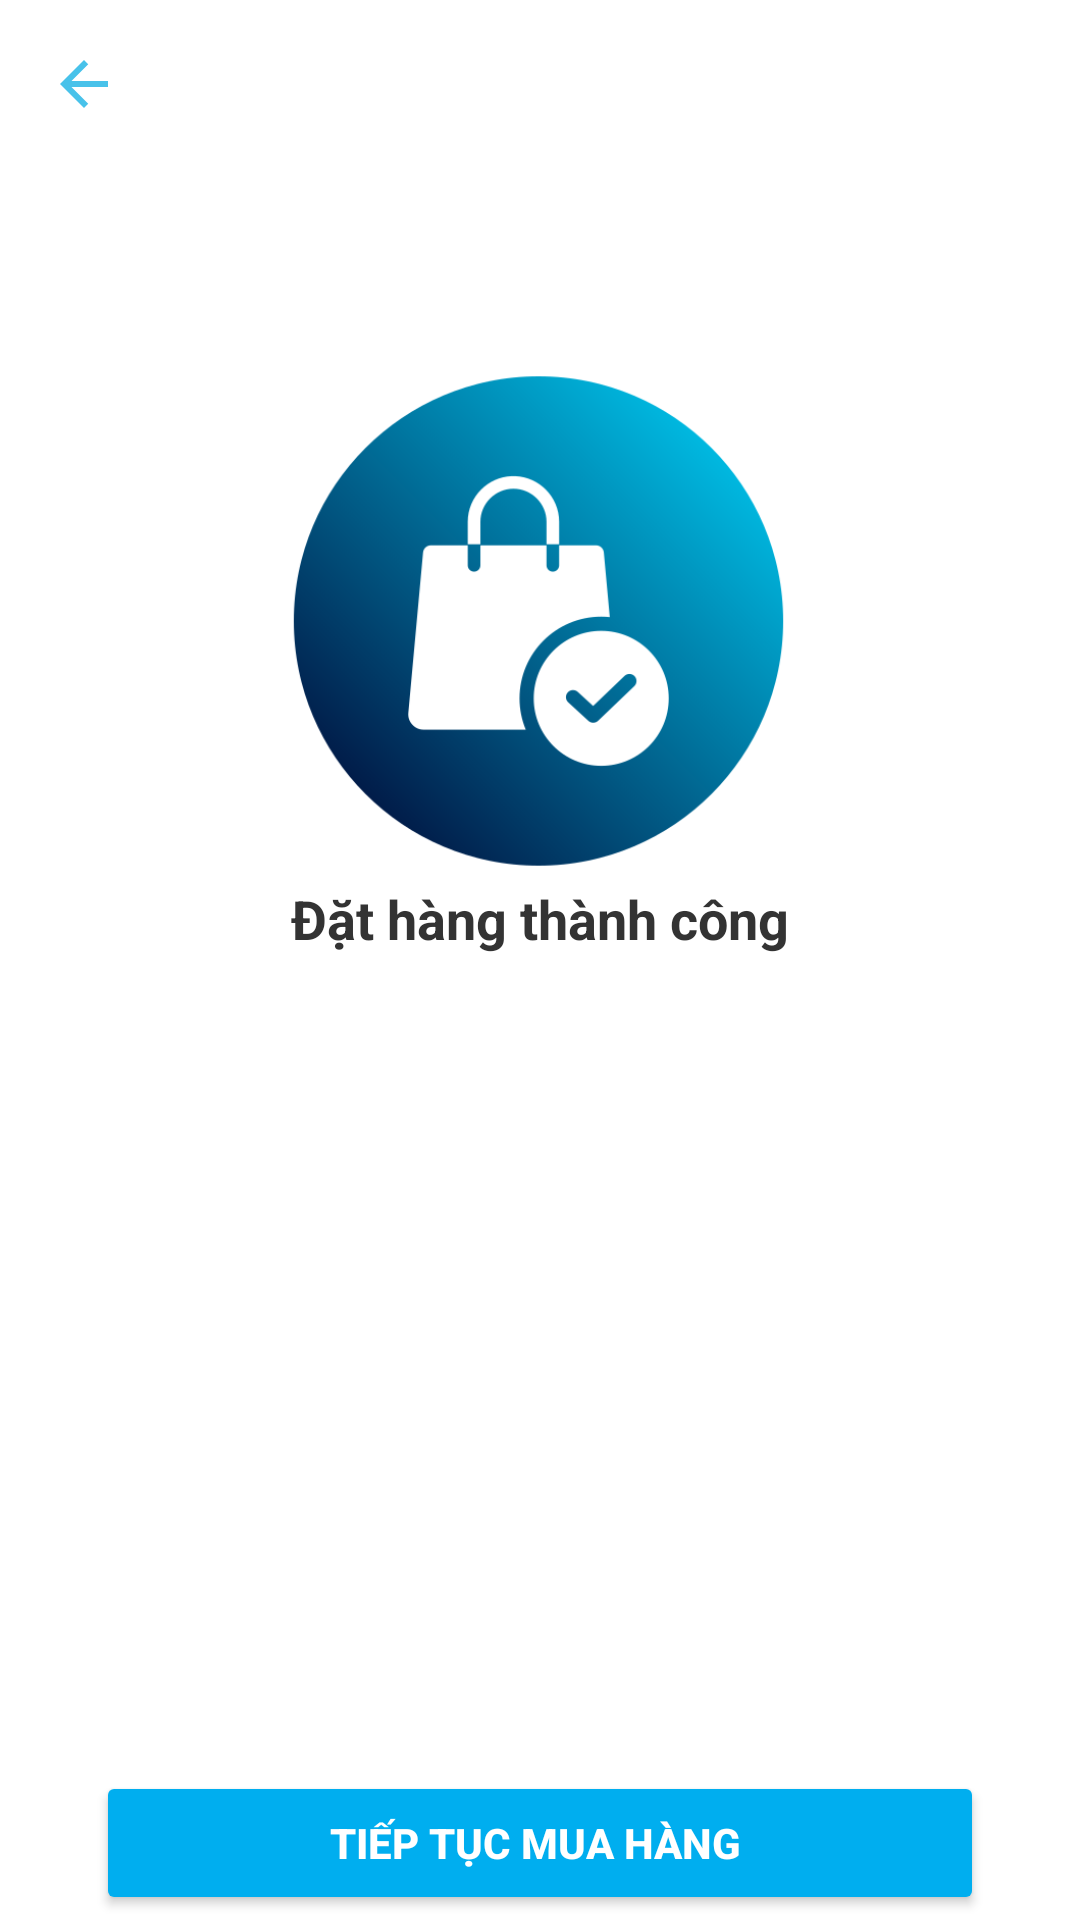

Named icons in this screenshot (1080px x 1920px) and their bounding boxes, [x1=x1, y1=y1, x2=x2, y2=y2]:
Quay lại: [x1=60, y1=60, x2=108, y2=108]
